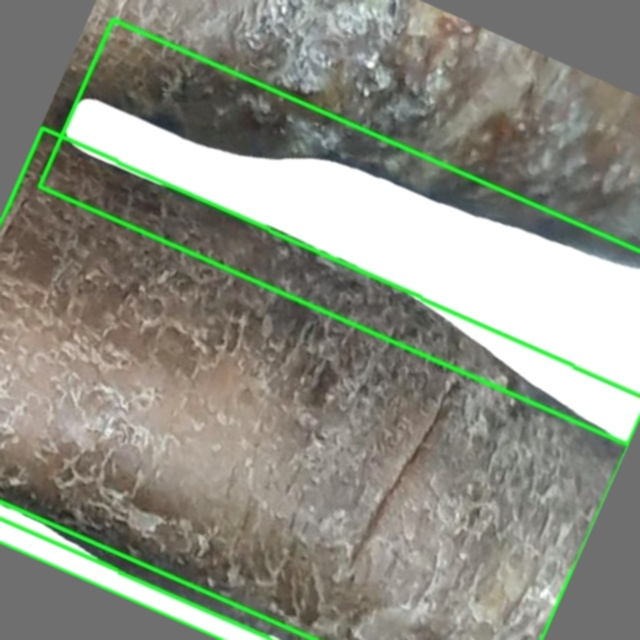Eczema: (0, 127, 639, 639), (39, 19, 639, 445)
